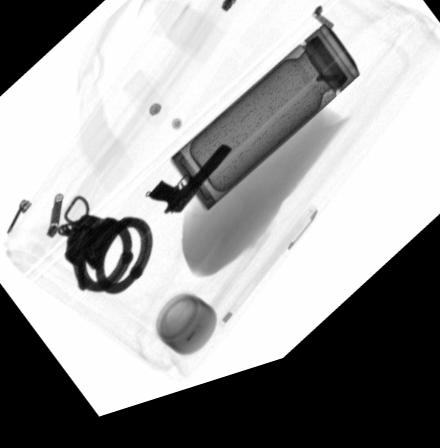Gun: (144, 155, 233, 226)
HandCuffs: (52, 217, 153, 303)
